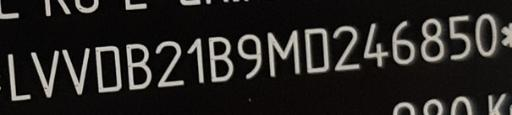letter: (266, 29, 302, 80), (362, 21, 390, 70), (332, 24, 360, 73), (303, 27, 331, 76), (156, 40, 184, 89), (63, 48, 91, 95), (208, 36, 234, 85), (32, 50, 58, 99), (6, 52, 32, 101), (418, 18, 446, 63), (446, 13, 472, 60), (391, 19, 417, 66), (126, 43, 152, 90), (94, 45, 120, 92), (236, 34, 262, 79), (475, 12, 499, 59), (184, 37, 206, 84)
